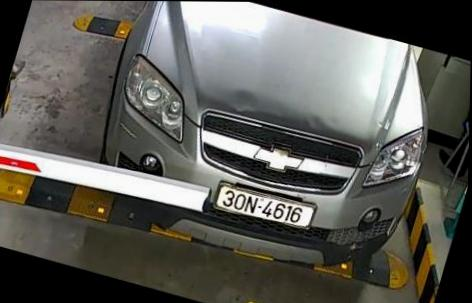License_Plate: (204, 177, 320, 240)
